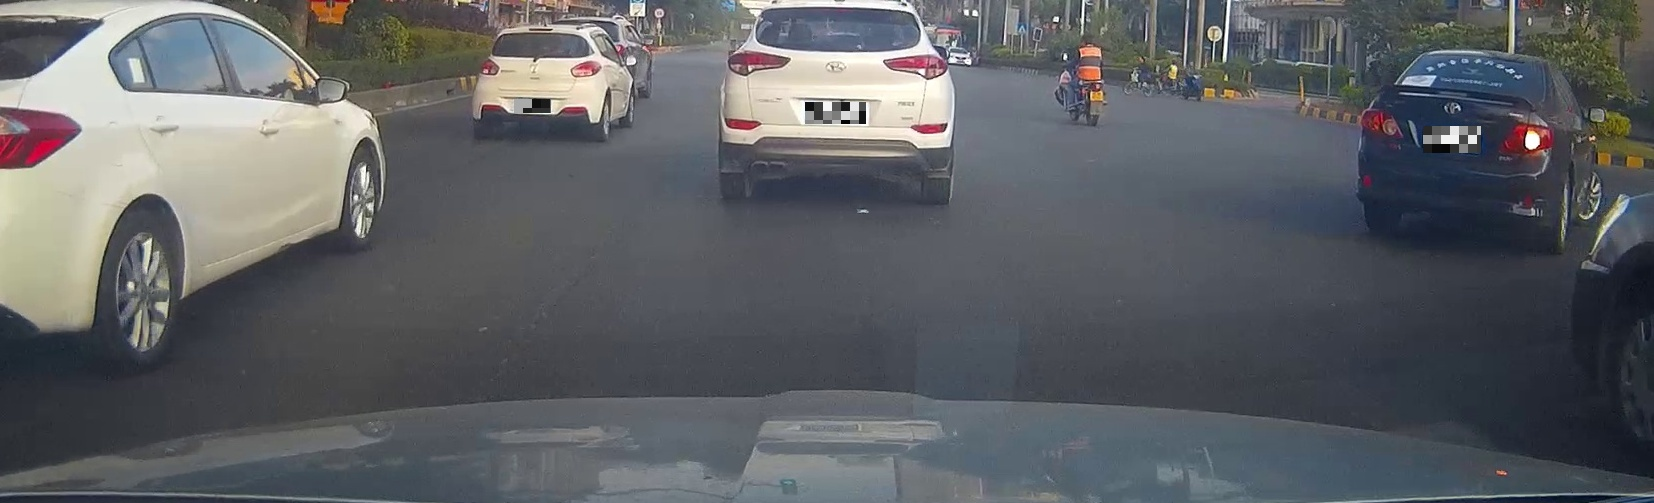L_light: (726, 49, 791, 77), (1359, 109, 1404, 139), (478, 58, 500, 77)
R_light: (882, 53, 949, 81), (1499, 122, 1552, 154), (570, 60, 602, 78)
T_light: (819, 6, 857, 13), (1469, 55, 1496, 62), (528, 27, 553, 31)
day-no: (719, 0, 956, 204), (472, 27, 602, 142)
day-right: (1358, 49, 1556, 252)
plate_1: (514, 99, 551, 113)
plate_2: (805, 102, 866, 124)
plate_3: (1423, 125, 1481, 153)
